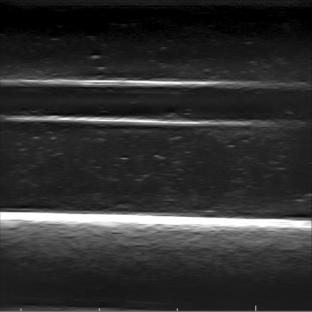vessel: (3, 78, 304, 128)
